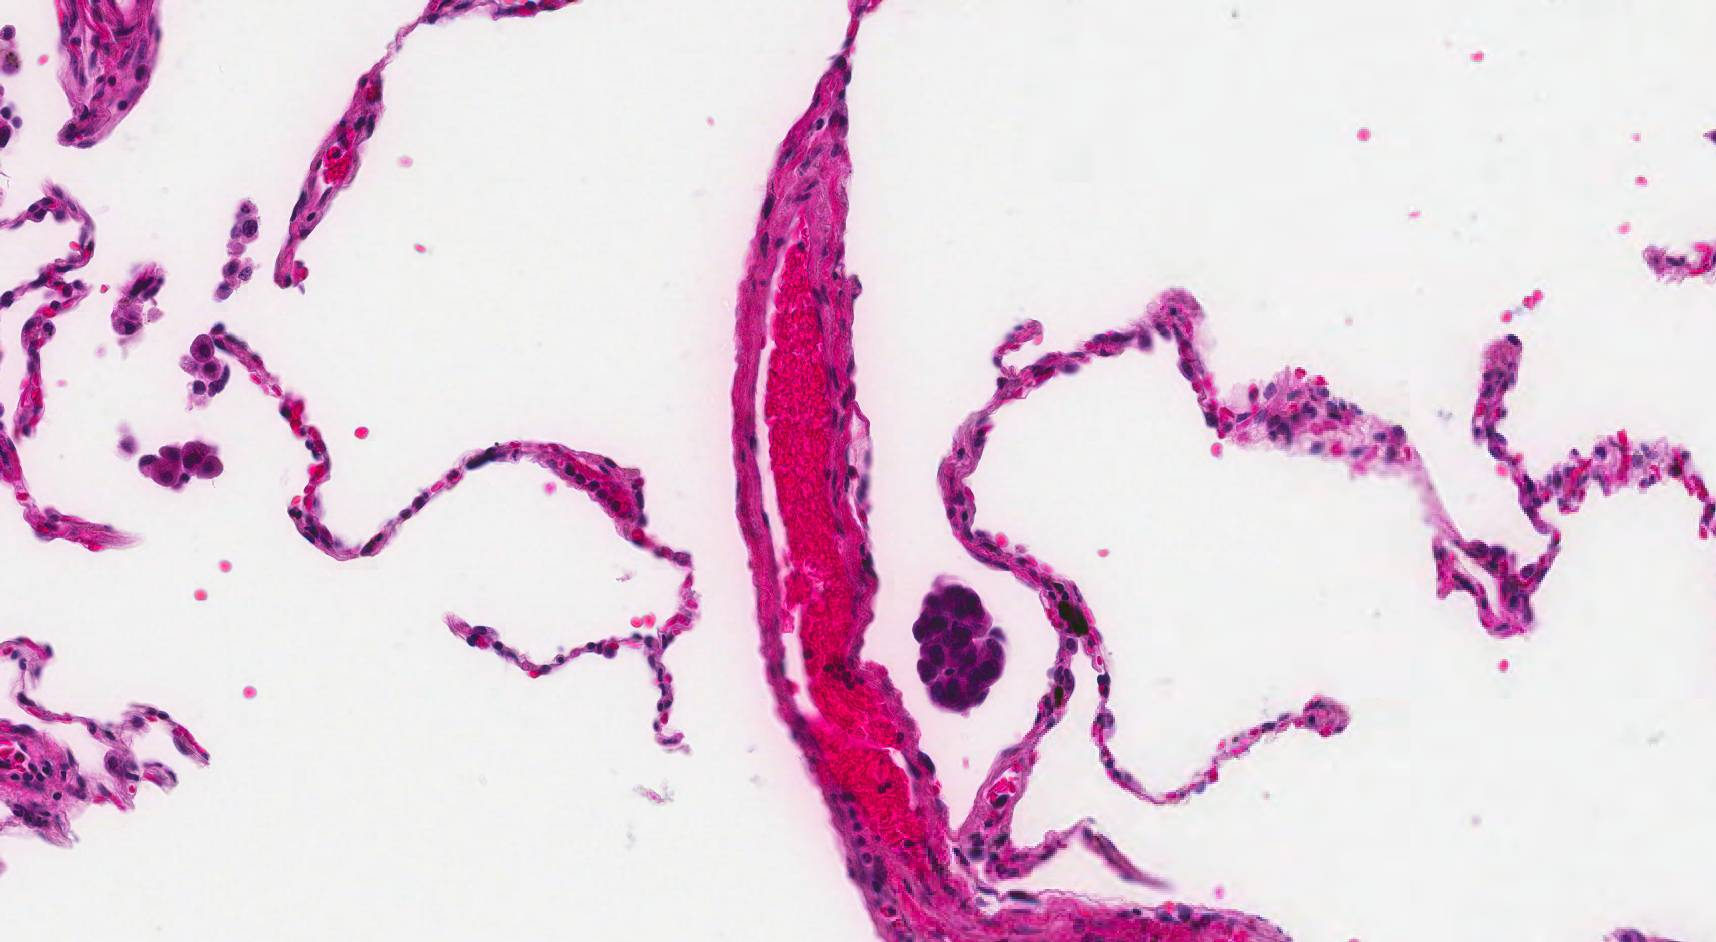stas: (910, 577, 1008, 716)
